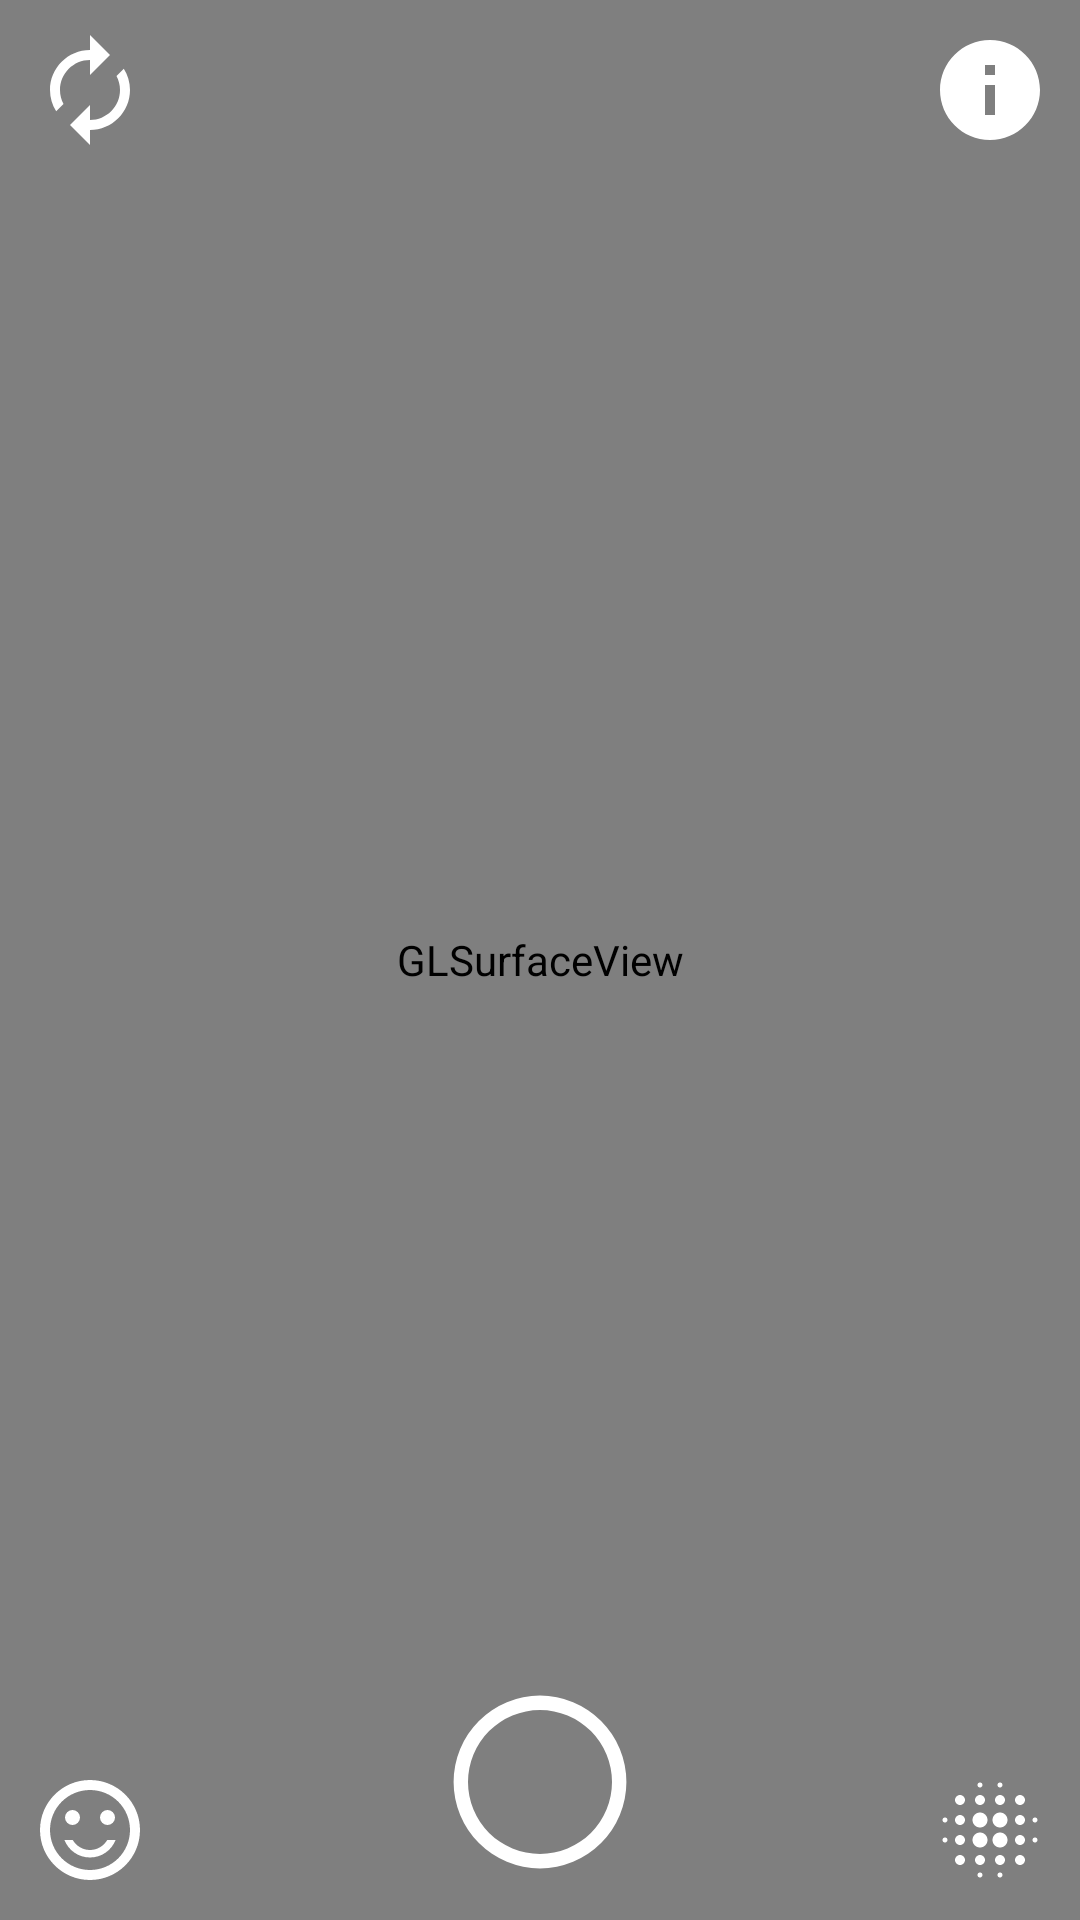

Named icons in this screenshot (1080x1920) and their centers, point (x, y):
autorenew: point (90, 90)
blur: point (990, 1830)
info: point (990, 90)
ring: point (540, 1782)
sentiment: point (90, 1830)
